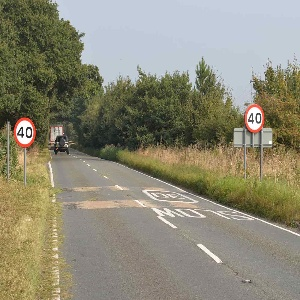40 speed: (13, 117, 36, 148), (244, 104, 265, 133)
